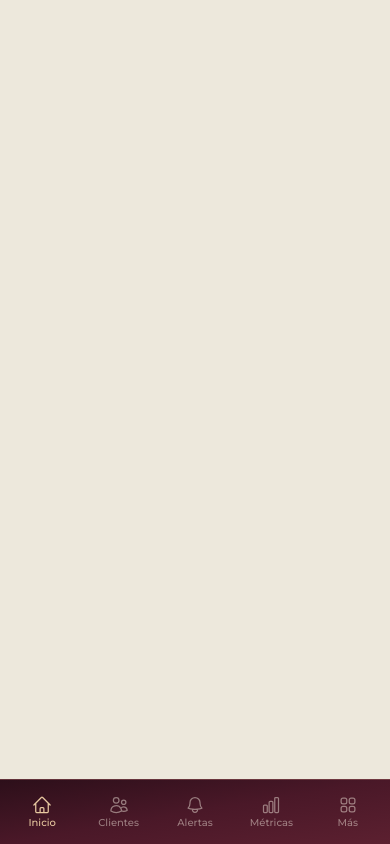
Test: TrainerMobileBottomNav › shows the bottom sheet header when Más is clicked
Click the button "Más" at (348, 812), box [310,787,386,837]
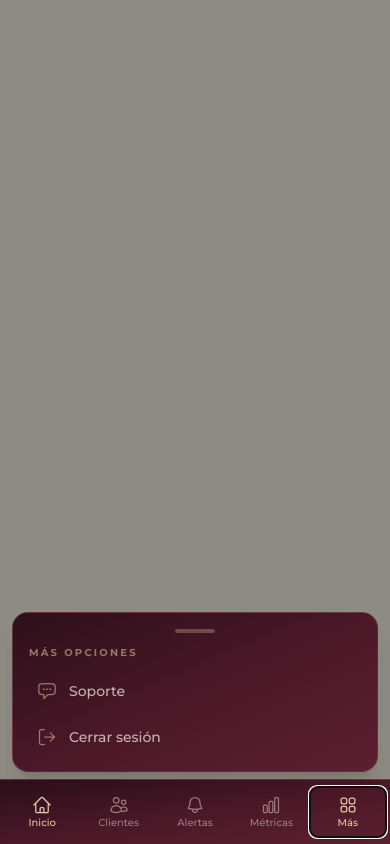
Check: the text "Más opciones" is shown, box [29,646,138,659]
